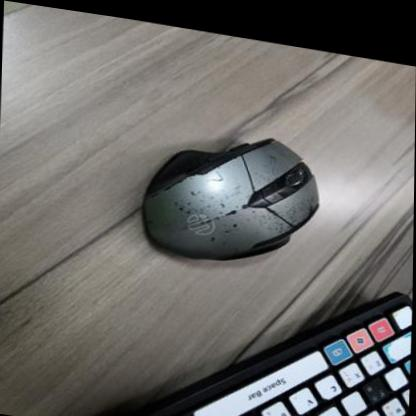mouserotation: (142, 108, 324, 269)
